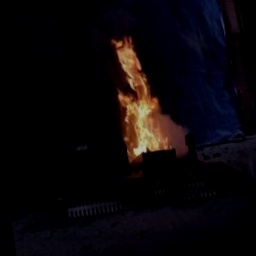fire: (99, 23, 184, 165)
